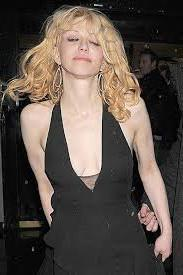Drunk: (58, 20, 104, 77)
